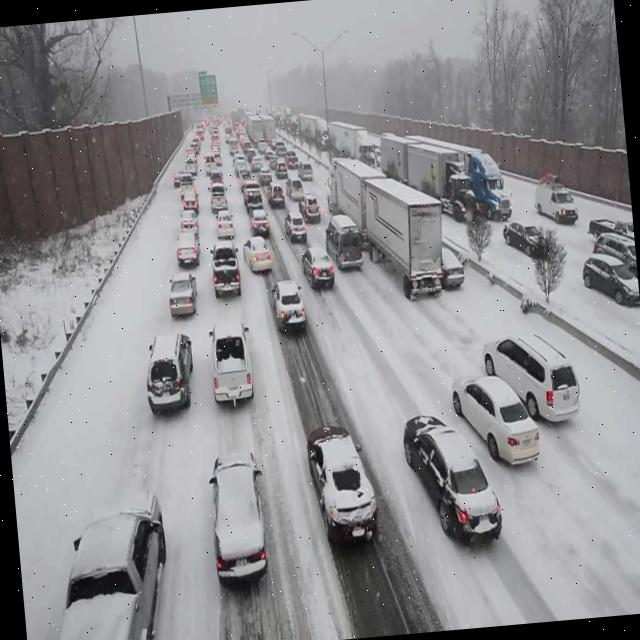bus: (322, 149, 448, 308), (466, 156, 514, 226), (440, 153, 476, 224), (330, 129, 374, 160), (299, 114, 330, 144), (262, 115, 276, 144), (248, 116, 262, 144)
car: (41, 499, 174, 640), (400, 407, 507, 551), (482, 326, 584, 430), (448, 366, 544, 472), (303, 420, 382, 548), (203, 442, 272, 582), (142, 334, 196, 416), (578, 247, 635, 310), (209, 333, 255, 406), (532, 179, 578, 227), (271, 277, 308, 332), (592, 225, 634, 271), (586, 208, 632, 248), (325, 213, 361, 263), (504, 220, 548, 260), (209, 248, 242, 298), (167, 274, 199, 320), (302, 250, 337, 291), (242, 234, 276, 274), (435, 246, 467, 286), (176, 227, 202, 260), (285, 206, 308, 240), (302, 189, 322, 220), (209, 180, 228, 209), (284, 172, 304, 198), (216, 208, 235, 234), (246, 190, 264, 213), (267, 178, 284, 200), (202, 150, 218, 173), (180, 208, 198, 228), (183, 188, 200, 206), (252, 210, 268, 228), (170, 168, 184, 188), (298, 156, 312, 174), (185, 157, 198, 176), (258, 168, 272, 184), (257, 138, 268, 152), (275, 138, 286, 152), (228, 138, 239, 152)
